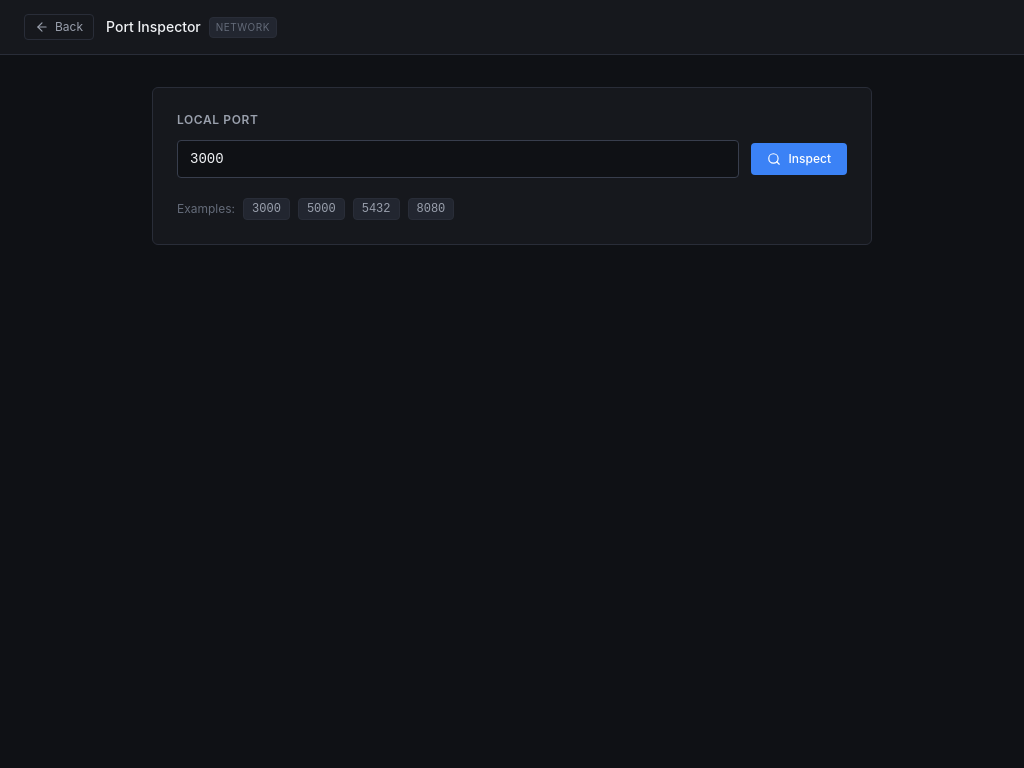
Test: PortInspectorPage › displays manual inspection commands when owner is hidden
This screenshot has width=1024, height=768.
Replace the text in the number field labelled "Local Port" with "80" at (458, 159), box [177,140,739,178]
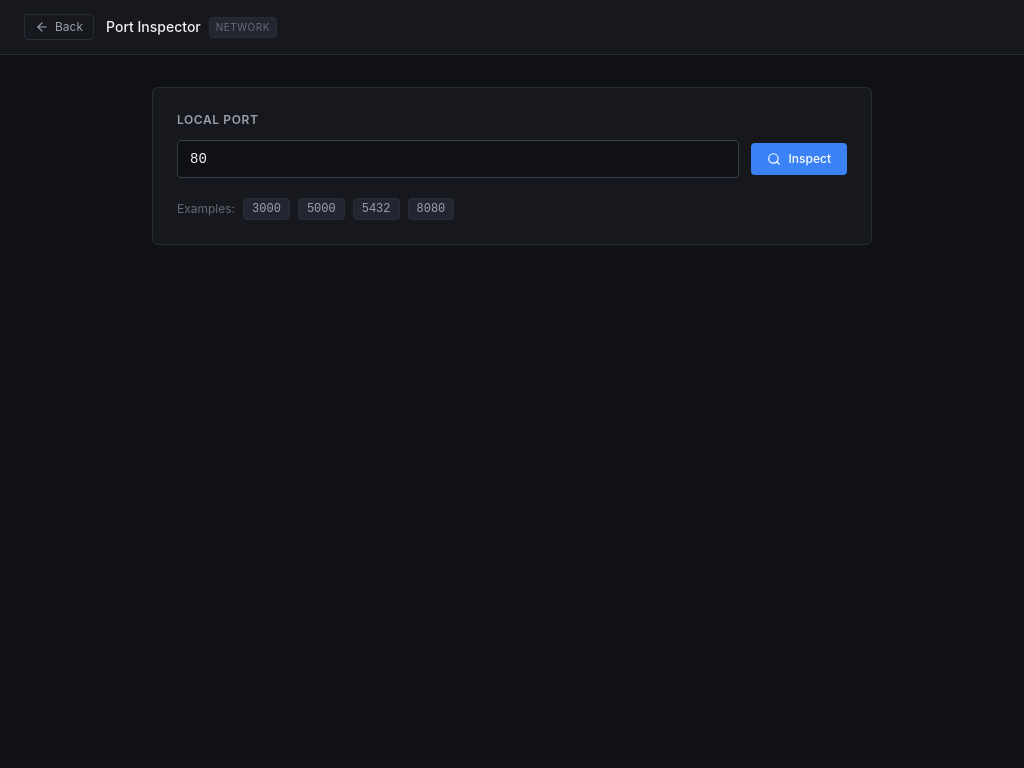
Click the button "Inspect" at (799, 159), box [751,143,847,175]
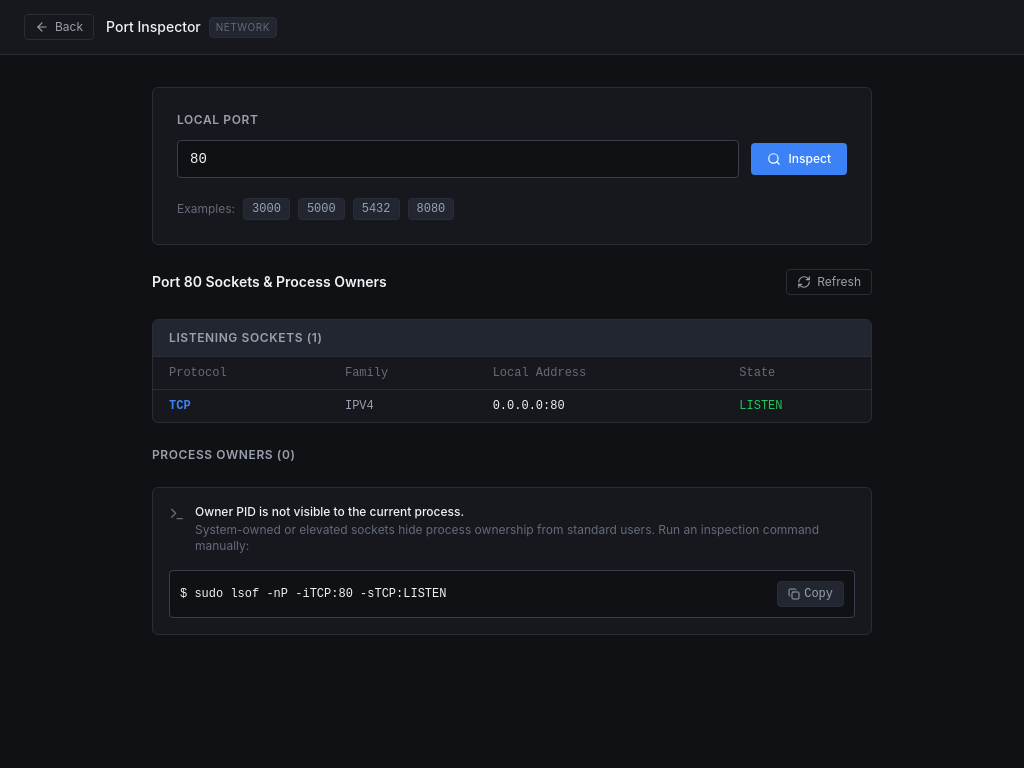
Expected: the text "Owner PID is not visible to the current process." is shown, [195,504,464,519]
Expected: the text "$ sudo lsof -nP -iTCP:80 -sTCP:LISTEN" is shown, [180,586,446,602]
